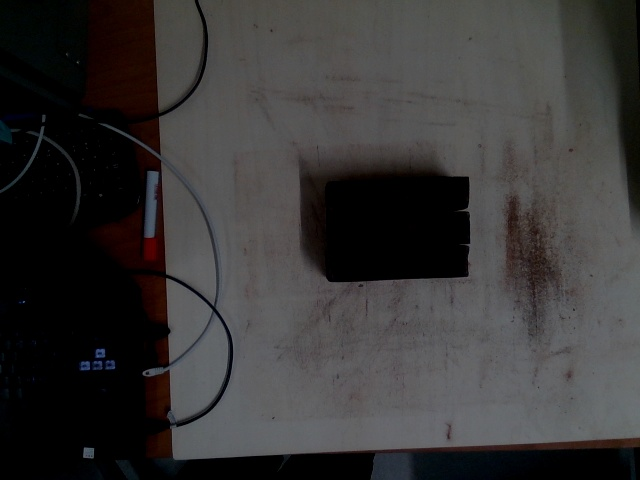brick-side: (330, 244, 466, 280), (331, 208, 467, 244), (330, 175, 466, 211)
